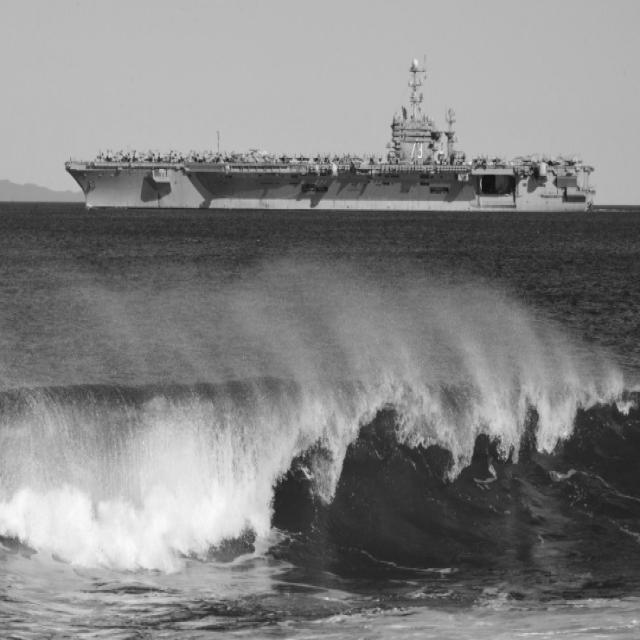Portanaves: (65, 54, 602, 216)
